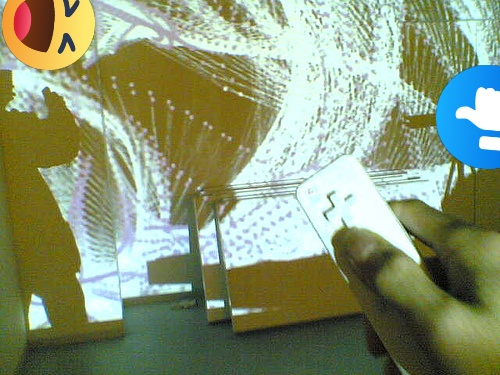haha: (2, 0, 95, 70)
like: (436, 65, 500, 169)
